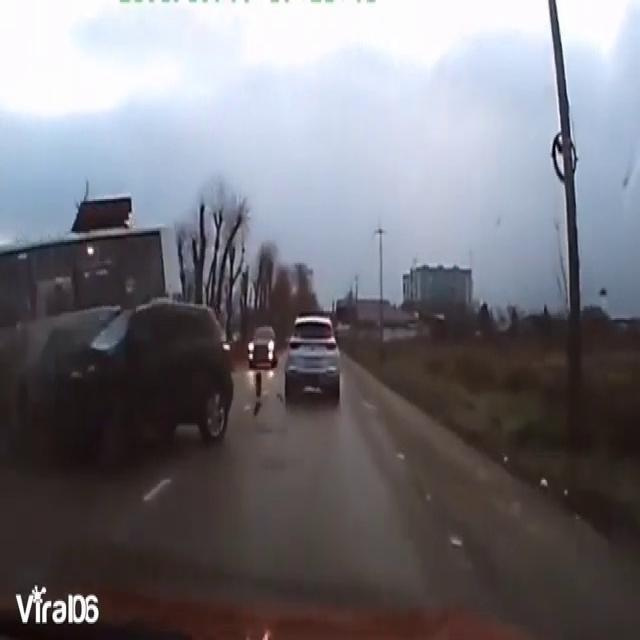multiple_accident: (4, 231, 161, 459)
